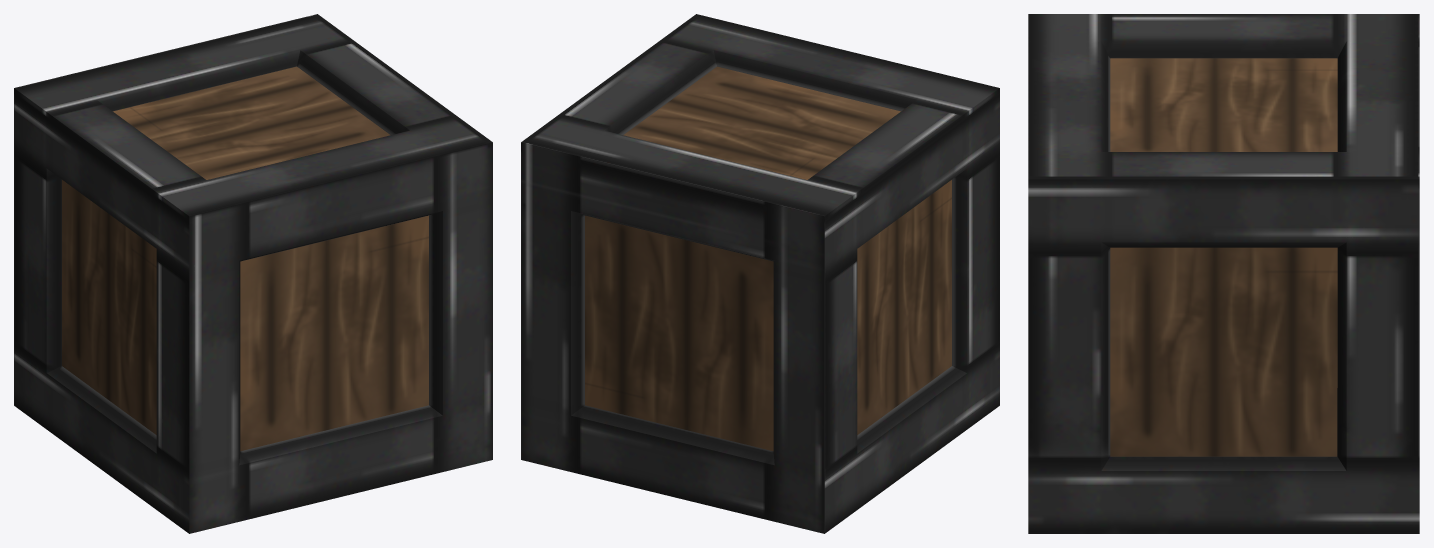
The picture shows the model from 3 angles, left to right: view 1: azimuth 30°, elevation 25°; view 2: azimuth 150°, elevation 25°; view 3: azimuth 270°, elevation 25°; orthographic projection. The views are drawn at different scales.
Visible parts, largest first — view 1: SM_box; view 2: SM_box; view 3: SM_box.
Boxes of the visible parts, bbox=[...] form: SM_box: bbox=[14, 14, 492, 533]; SM_box: bbox=[521, 14, 999, 533]; SM_box: bbox=[1028, 14, 1419, 533].
Size of the model in its own units: 1.44 by 1.44 by 1.44.
